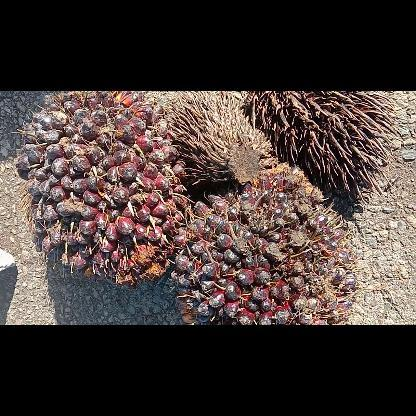Janjang kosong: (244, 91, 402, 203), (161, 90, 273, 182)
TBS mentah: (16, 91, 192, 289), (171, 162, 363, 324)
